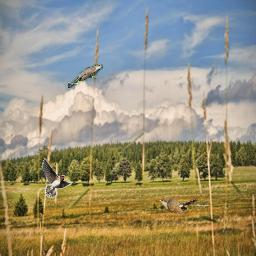Cuckoo: (68, 64, 103, 88), (158, 198, 198, 214)
Swallow: (42, 158, 73, 198)
